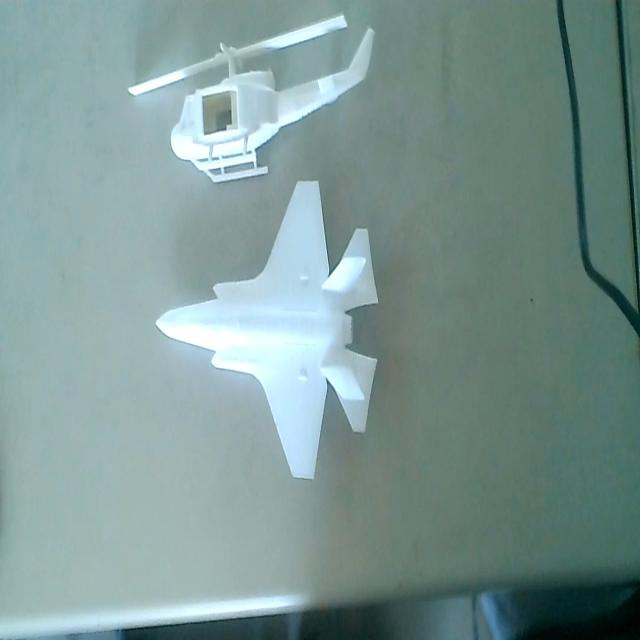Helicopter: (127, 14, 375, 193)
Jet: (155, 179, 377, 486)
